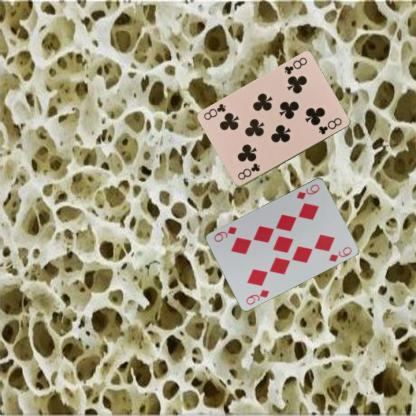8c: (281, 54, 308, 76), (235, 160, 261, 182)
9d: (294, 180, 321, 200), (244, 286, 271, 306)
